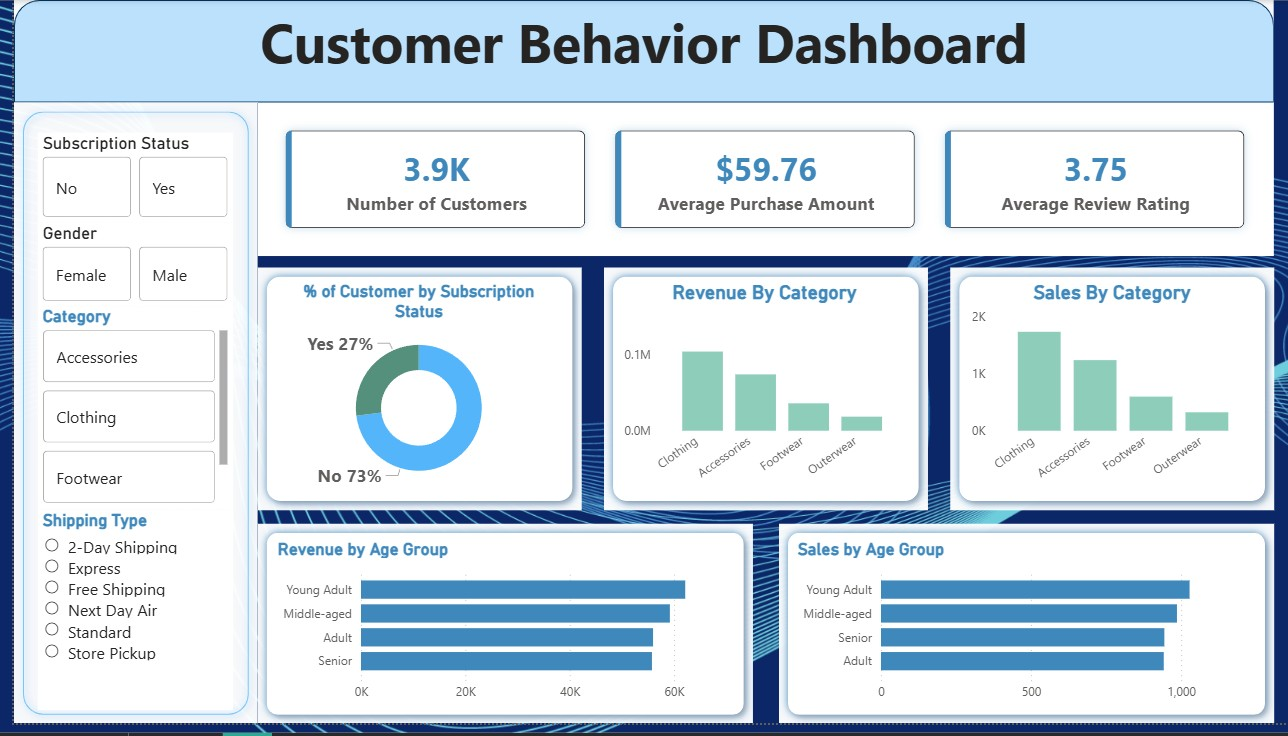

The page's visual inventory and layout, read from the dashboard file:
{"tool":"powerbi","page":{"name":"Page 1","canvas":[1280,720],"ordinal":0},"visuals":[{"type":"cardVisual","fields":{"Data":["public customer.Number of Customers","public customer.Average Purchase Amount","public customer.Average Review Rating"]},"box":[242.6,102,1011.3,153],"z":0},{"type":"shape","box":[0,0,1253.9,102],"z":1000},{"type":"textbox","box":[0,0,1253.9,102],"z":2000},{"type":"shape","box":[242.6,266,322.2,241.3],"z":3000},{"type":"donutChart","title":"% of Customer by Subscription Status","fields":{"Category":["public customer.subscription_status"],"Y":["CountNonNull(public customer.customer_id)"]},"box":[257.5,279.9,291.1,214],"z":4000},{"type":"shape","box":[587.1,266,322.2,241.3],"z":5000},{"type":"shape","box":[931.7,266,322.2,241.3],"z":6000},{"type":"clusteredColumnChart","title":"Revenue By Category","fields":{"Y":["Sum(public customer.purchase_amount)"],"Category":["public customer.category"]},"box":[602.1,279.9,289.8,214],"z":7000},{"type":"clusteredColumnChart","title":"Sales By Category","fields":{"Y":["CountNonNull(public customer.customer_id)"],"Category":["public customer.category"]},"box":[947.9,279.9,289.8,214],"z":8000},{"type":"shape","box":[0,102,242.6,618.2],"z":9000},{"type":"advancedSlicerVisual","fields":{"Values":["public customer.subscription_status"]},"box":[23.6,131.9,194.1,89.6],"z":10000},{"type":"advancedSlicerVisual","fields":{"Values":["public customer.gender"]},"box":[23.6,221.4,194.1,83.3],"z":11000},{"type":"advancedSlicerVisual","fields":{"Values":["public customer.category"]},"box":[23.6,304.8,194.1,202.8],"z":12000},{"type":"listSlicer","fields":{"Values":["public customer.shipping_type"]},"box":[23.6,507.5,194.1,199],"z":13000},{"type":"shape","box":[242.6,521.2,492.6,199],"z":14000},{"type":"clusteredBarChart","title":"Revenue by Age Group","fields":{"Y":["Sum(public customer.purchase_amount)"],"Category":["public customer.age_group"]},"box":[257.5,536.1,466.5,170.4],"z":15000},{"type":"shape","box":[761.3,521.2,492.6,199],"z":16000},{"type":"clusteredBarChart","title":"Sales by Age Group","fields":{"Y":["CountNonNull(public customer.customer_id)"],"Category":["public customer.age_group"]},"box":[775,536.1,466.5,170.4],"z":17000}]}

Visuals, with their boxes in screenshot pixels (x1, y1, x2, y2), scaled from the page's 1280x720 canvas onto the 1288x736 screenshot:
cardVisual - public customer.Number of Customers x public customer.Average Purchase Amount: bbox(244, 104, 1262, 261)
shape: bbox(0, 0, 1262, 104)
textbox: bbox(0, 0, 1262, 104)
shape: bbox(244, 272, 568, 519)
"% of Customer by Subscription Status" donutChart: bbox(259, 286, 552, 505)
shape: bbox(591, 272, 915, 519)
shape: bbox(938, 272, 1262, 519)
"Revenue By Category" clusteredColumnChart: bbox(606, 286, 897, 505)
"Sales By Category" clusteredColumnChart: bbox(954, 286, 1245, 505)
shape: bbox(0, 104, 244, 735)
advancedSlicerVisual - public customer.subscription_status: bbox(24, 135, 219, 226)
advancedSlicerVisual - public customer.gender: bbox(24, 226, 219, 311)
advancedSlicerVisual - public customer.category: bbox(24, 312, 219, 519)
listSlicer - public customer.shipping_type: bbox(24, 519, 219, 722)
shape: bbox(244, 533, 740, 735)
"Revenue by Age Group" clusteredBarChart: bbox(259, 548, 729, 722)
shape: bbox(766, 533, 1262, 735)
"Sales by Age Group" clusteredBarChart: bbox(780, 548, 1249, 722)
